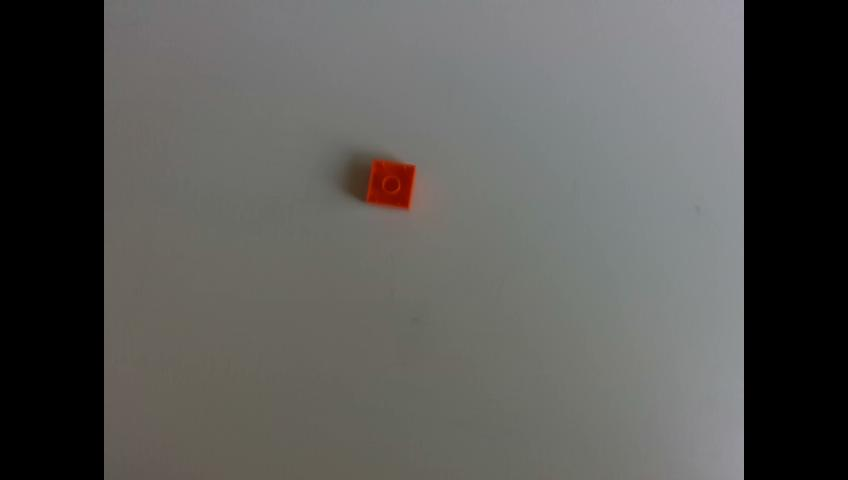2x2_orange: (367, 159, 415, 209)
